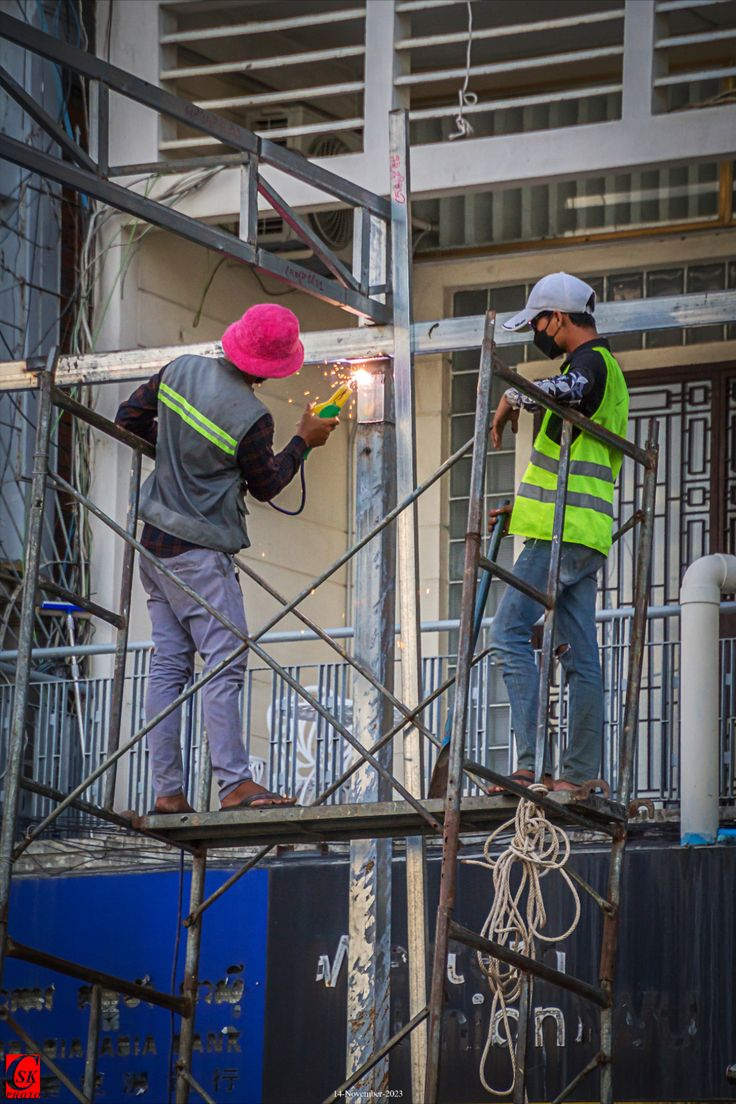no_hardhat: (473, 263, 612, 332), (220, 287, 306, 381)
person: (420, 234, 682, 828), (72, 277, 325, 844)
safety_vest: (141, 356, 274, 556), (519, 357, 621, 551)
